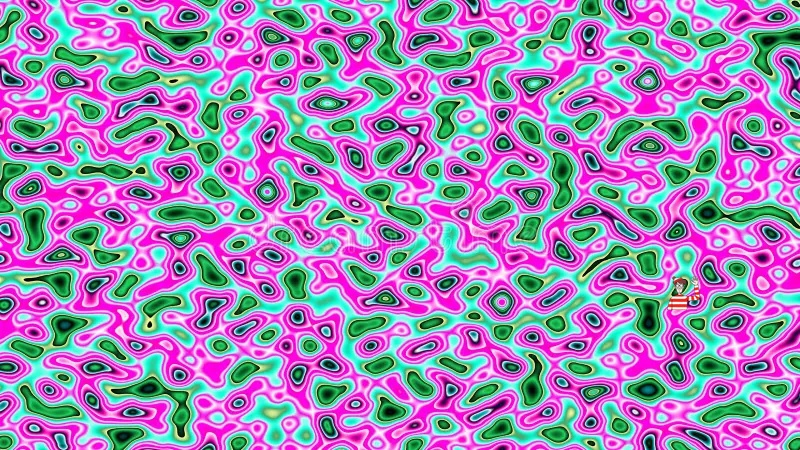waldo: (667, 276, 700, 310)
